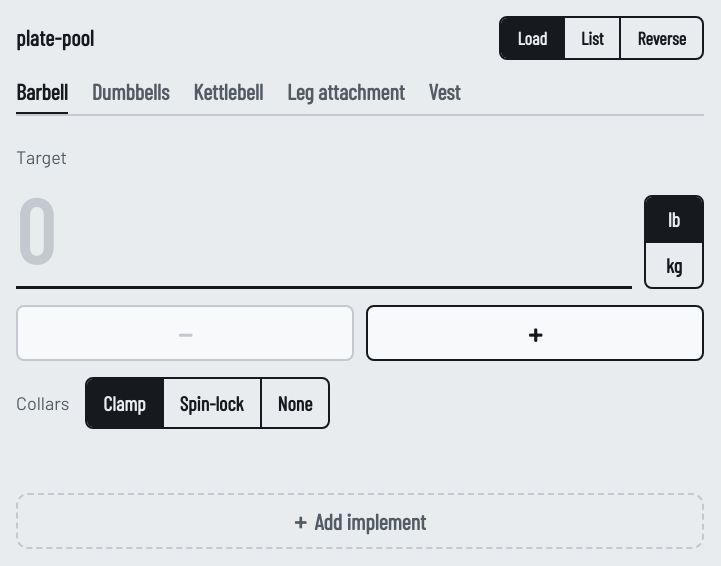
Test case: Load screen: implement tabs › selects the tab that is pressed
Click the tab "Kettlebell" at point(228, 94), box left=193, top=72, right=263, bottom=116
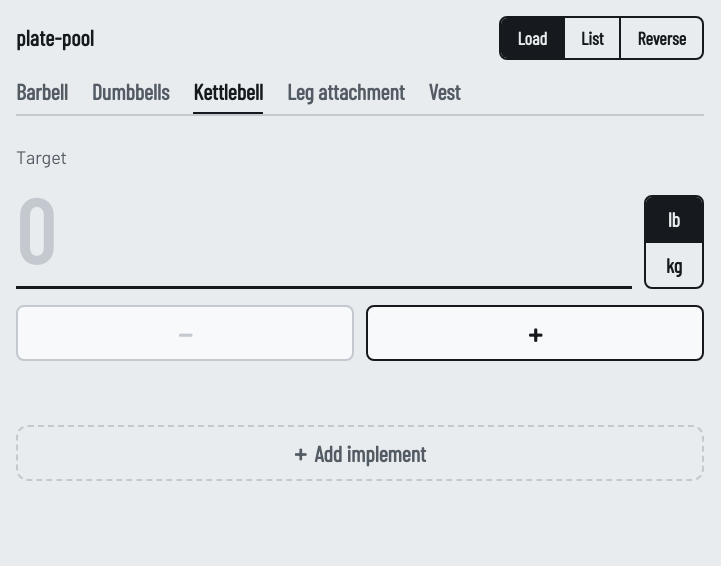
Expected: the panel named "Kettlebell" is shown, left=16, top=144, right=704, bottom=481
